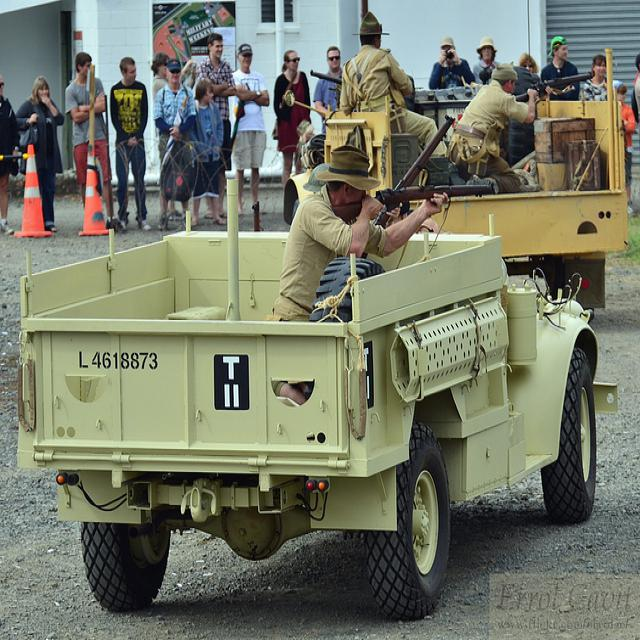Vehicle: (16, 168, 598, 621), (283, 45, 628, 314)
